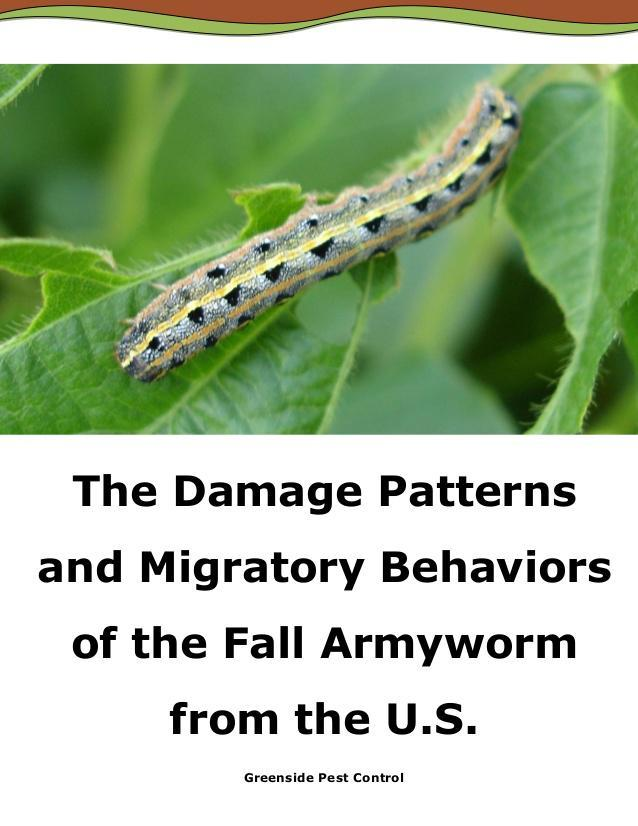caterpillars: (96, 57, 554, 413)
